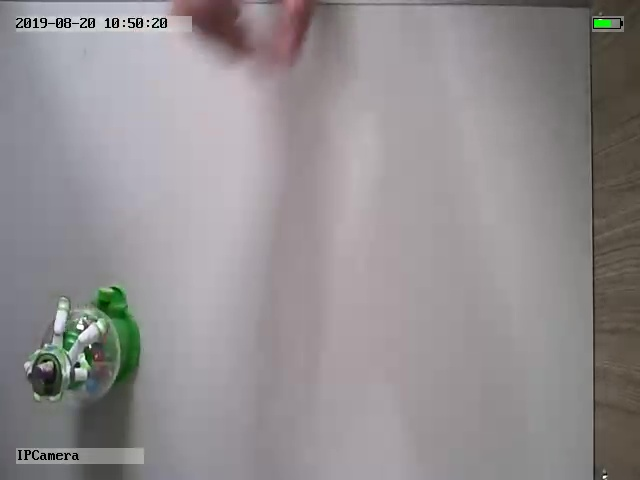buzz: (21, 284, 142, 402)
